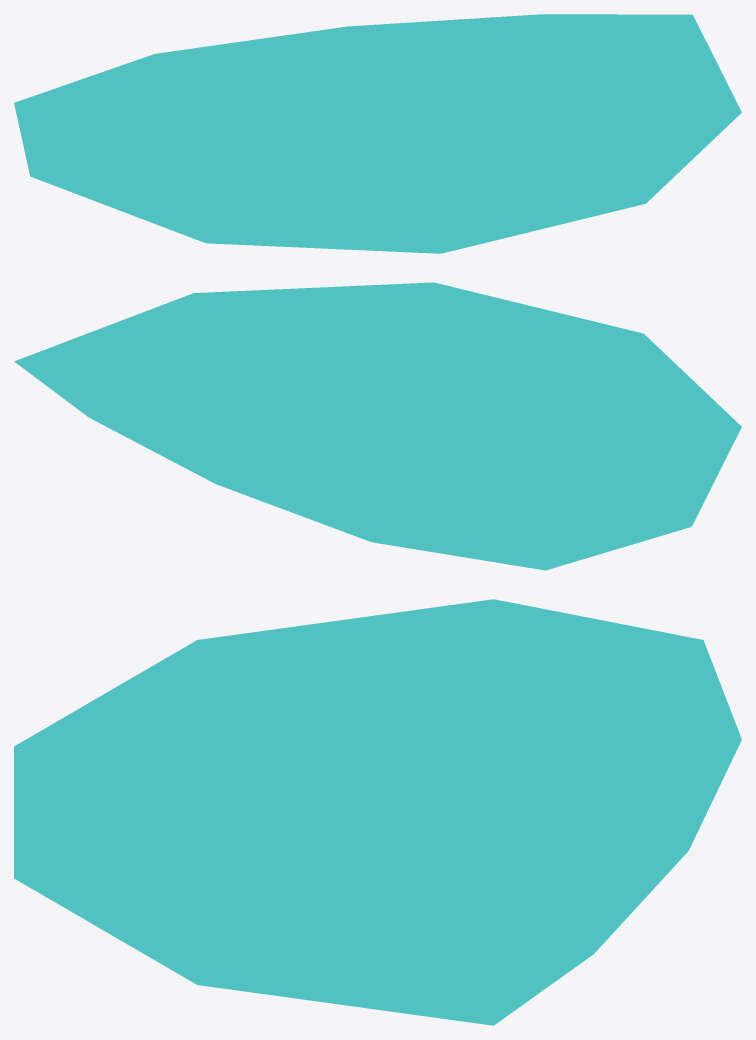
Rendered from dummy_ramn1.gltf.
3 views of the same model, one above another, from view 1: azimuth 30°, elevation 25°; view 2: azimuth 150°, elevation 25°; view 3: azimuth 270°, elevation 25° (orthographic). The views are drawn at different scales.
Visible parts, largest first — view 1: dummy_ramn1; view 2: dummy_ramn1; view 3: dummy_ramn1.
Part boxes in pixels (x1,y1,x2,y2): dummy_ramn1: (14, 14, 741, 253); dummy_ramn1: (14, 282, 741, 570); dummy_ramn1: (14, 599, 741, 1025).
Size of the model in its own units: 0.4546 by 0.000244 by 0.3279.
